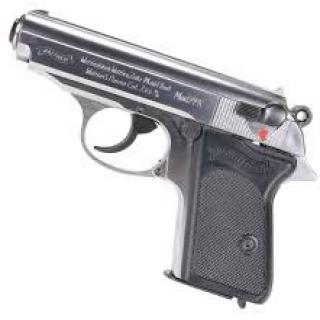gun: (4, 5, 310, 302)
